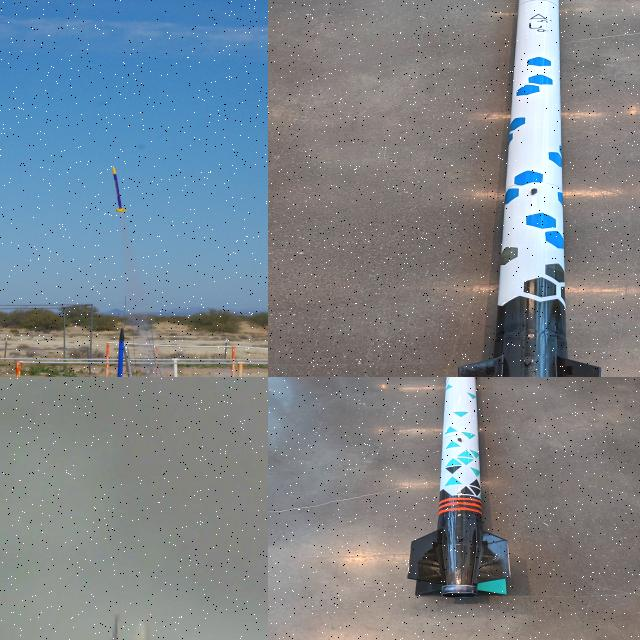Rocket: (457, 0, 602, 377), (406, 377, 512, 599), (110, 327, 127, 377), (112, 166, 127, 212), (123, 346, 141, 377)
